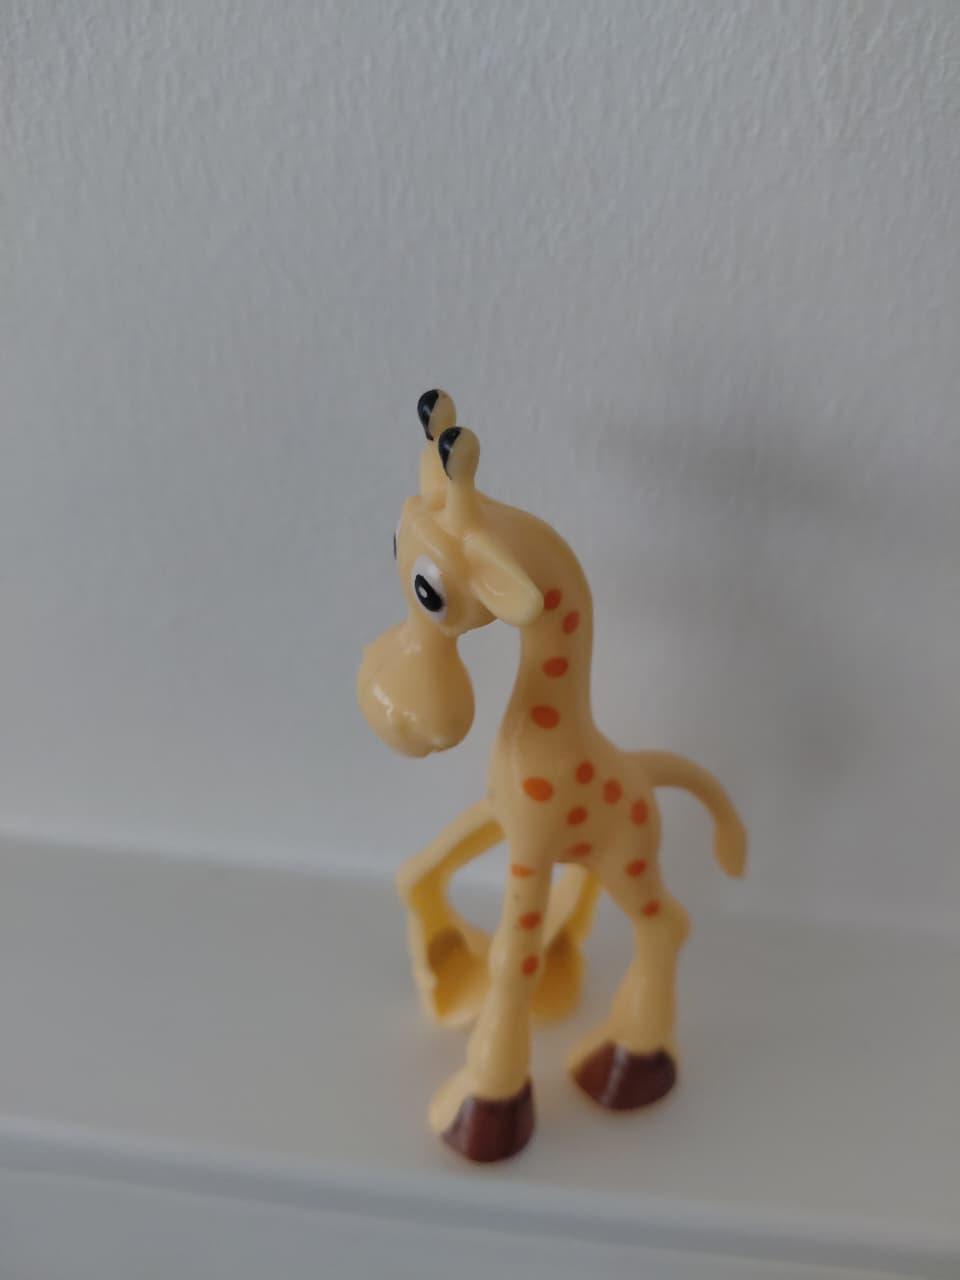giraffe: (335, 351, 784, 1192)
